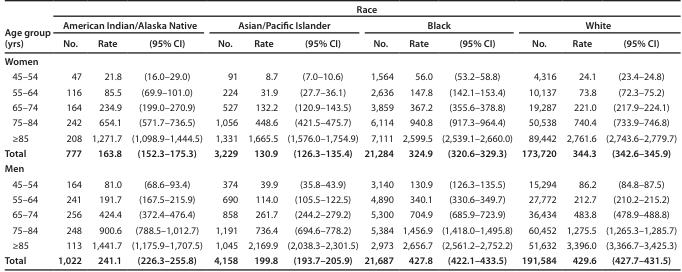table: (3, 4, 676, 265)
table column: (125, 4, 207, 265), (436, 4, 516, 265), (281, 4, 360, 265), (600, 4, 676, 265), (3, 4, 53, 265), (516, 4, 560, 265), (560, 4, 600, 265), (86, 4, 125, 265), (242, 4, 281, 265), (397, 4, 436, 265), (360, 4, 397, 265), (207, 4, 242, 265), (53, 4, 86, 265)
table column header: (3, 4, 676, 52)
table projected row header: (3, 52, 676, 68), (3, 160, 676, 176)
table row: (3, 34, 676, 52), (3, 17, 676, 34), (3, 52, 676, 68), (3, 68, 676, 84), (3, 114, 676, 130), (3, 160, 676, 176), (3, 206, 676, 222), (3, 84, 676, 99), (3, 99, 676, 114), (3, 130, 676, 145), (3, 145, 676, 160), (3, 176, 676, 191), (3, 191, 676, 206), (3, 222, 676, 237), (3, 237, 676, 252), (3, 4, 676, 17), (3, 252, 676, 265)
table spanning cell: (53, 4, 676, 17), (516, 17, 676, 34), (360, 17, 516, 34), (53, 17, 207, 34), (207, 17, 360, 34), (3, 4, 53, 52)
